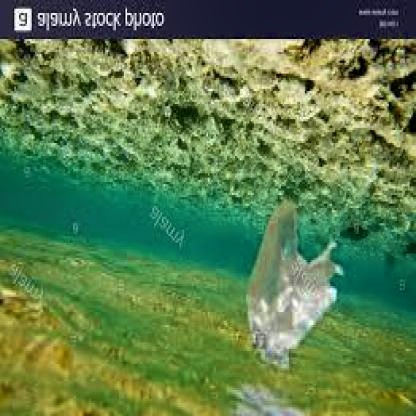pbag: (245, 200, 338, 368)
